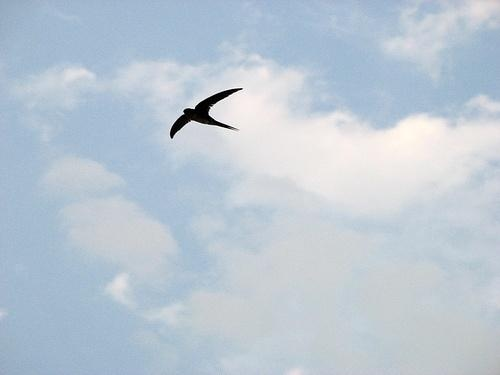bird: (167, 85, 245, 140)
